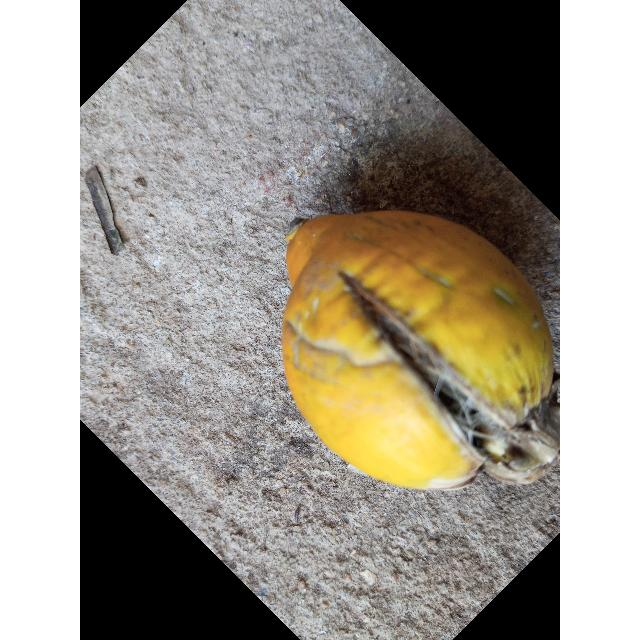damaged: (279, 209, 560, 493)
